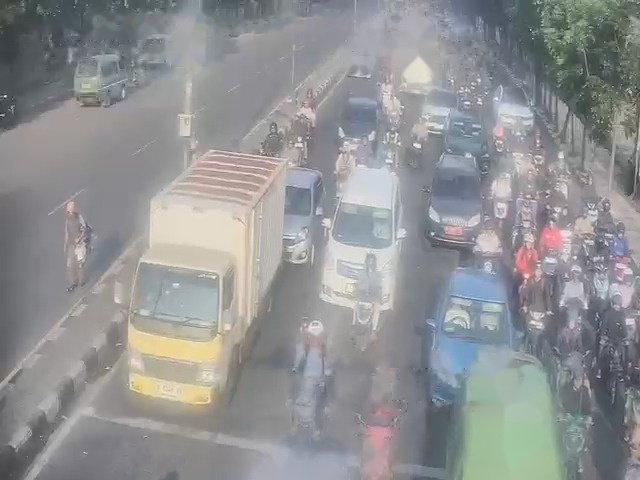Mobil: (338, 172, 399, 307), (435, 270, 497, 402), (430, 154, 484, 248), (283, 165, 316, 256), (336, 87, 378, 140), (446, 114, 481, 156), (498, 87, 531, 131), (423, 85, 454, 129)
Motor: (357, 423, 383, 480), (560, 406, 583, 470), (292, 376, 311, 437), (558, 344, 578, 394), (65, 239, 89, 280), (528, 306, 551, 347), (350, 298, 372, 338), (608, 347, 626, 389), (494, 180, 508, 227), (567, 306, 583, 338), (509, 272, 527, 299), (561, 232, 574, 265), (630, 314, 639, 357), (591, 269, 606, 294), (476, 251, 492, 273), (495, 180, 508, 202), (557, 200, 568, 224), (613, 259, 626, 278), (523, 201, 531, 229), (556, 181, 565, 205), (587, 236, 594, 264), (387, 115, 398, 132), (385, 149, 394, 169), (586, 201, 597, 217), (414, 137, 421, 162), (515, 151, 523, 171), (294, 131, 299, 154), (532, 151, 538, 167), (496, 139, 501, 155)
Truk: (137, 152, 281, 404)
